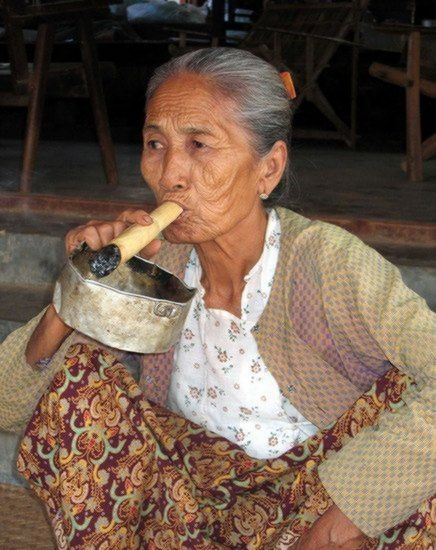cigarette: (92, 202, 188, 274)
